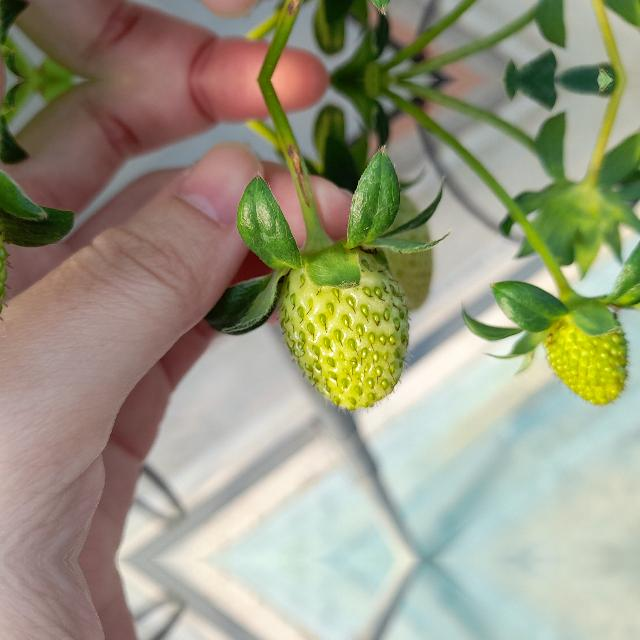Health_25: (276, 246, 412, 414), (545, 298, 629, 406)
